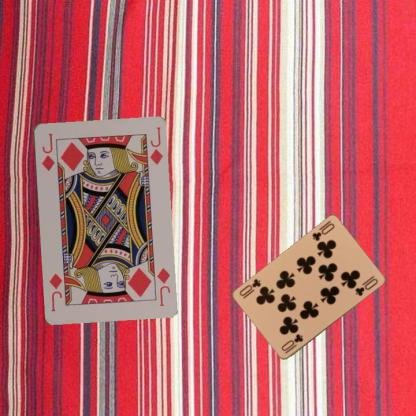10c: (310, 218, 336, 243), (278, 332, 304, 355)
Jd: (154, 264, 172, 308), (38, 130, 56, 172)
